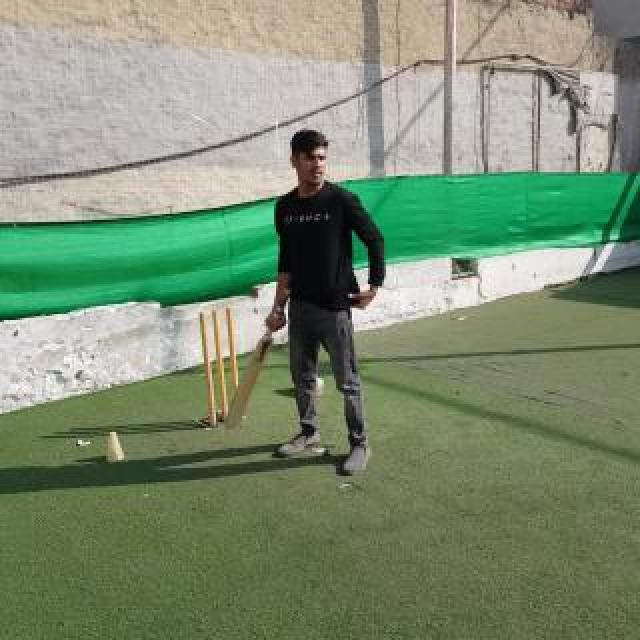bat: (226, 288, 292, 428)
